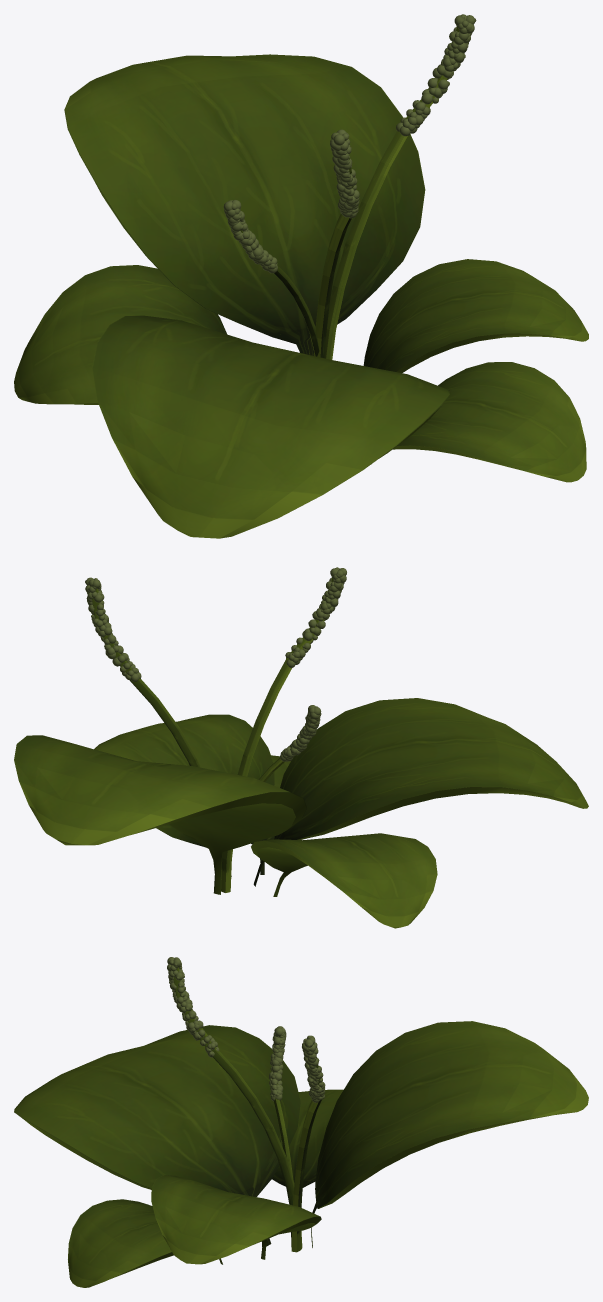
File: Plantago.fbx
The picture shows the model from 3 angles, top to bottom: view 1: azimuth 30°, elevation 25°; view 2: azimuth 150°, elevation 25°; view 3: azimuth 270°, elevation 25°; orthographic projection. The views are drawn at different scales.
Visible parts, largest first — view 1: Sphere.002; view 2: Sphere.002; view 3: Sphere.002.
Part boxes in pixels (<box>): Sphere.002: <box>14,14,588,538</box>; Sphere.002: <box>14,567,588,928</box>; Sphere.002: <box>14,957,588,1287</box>.
Bounding box in the file's own units: 468 × 326 × 599.
